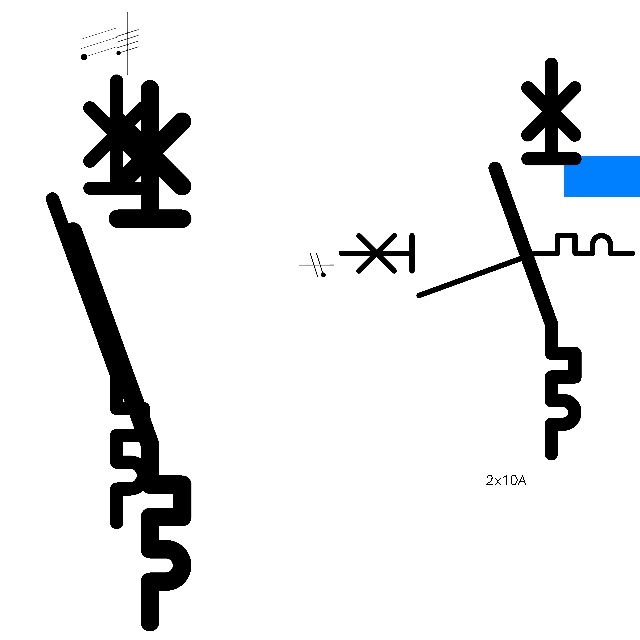interruptor_termomagnetico: (59, 75, 196, 636), (41, 69, 155, 534), (485, 54, 585, 464), (333, 228, 639, 303)
